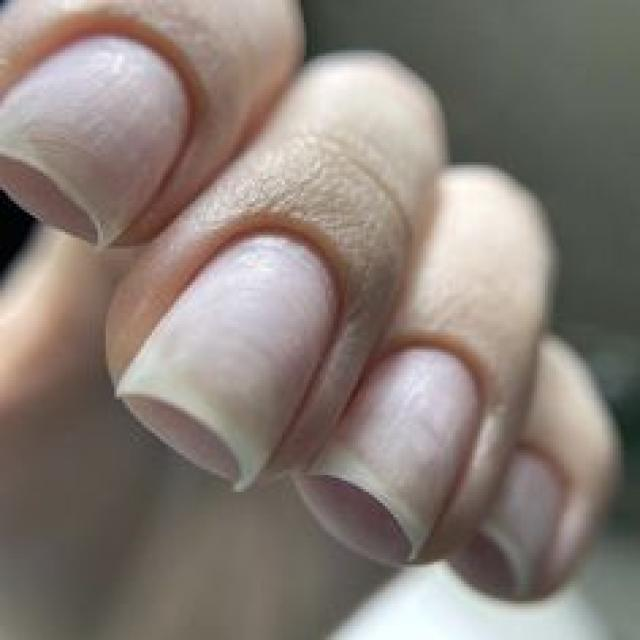Fingernail: (115, 230, 340, 491), (0, 36, 189, 244), (309, 347, 482, 557), (483, 451, 566, 591)
